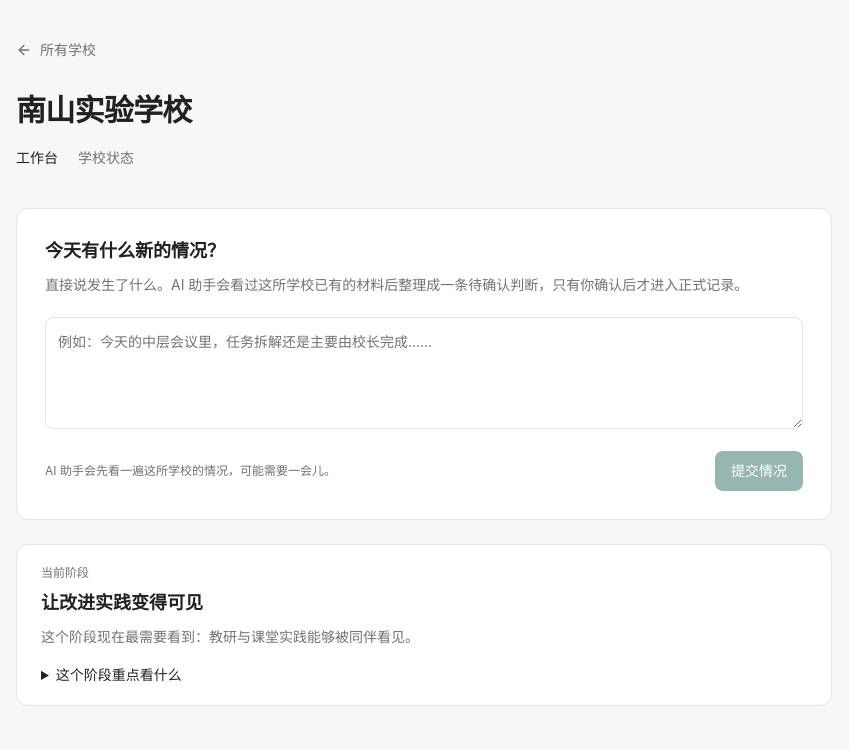
Test: the workbench when the assistant can run › sends the sentence to the assistant and shows the judgement it produced
Expected: the text "AI 助手会先看一遍这所学校的情况，可能需要一会儿。" is shown, x1=45 y1=463 x2=336 y2=479
Type "教研组把三节课的记录贴到了公共墙上。" into the text box with placeholder "例如：今天的中层会议里，任务拆解还是主要由校长完成……" at (424, 373), box x1=45 y1=317 x2=803 y2=429
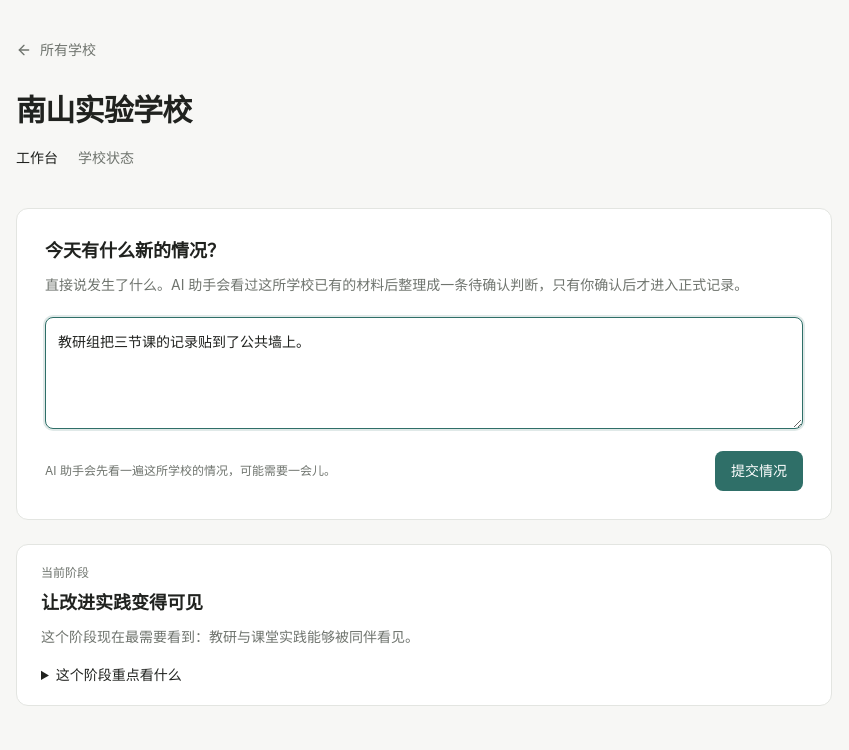
Click the button "提交情况" at (759, 471), box x1=715 y1=451 x2=803 y2=491
(page scrolled)
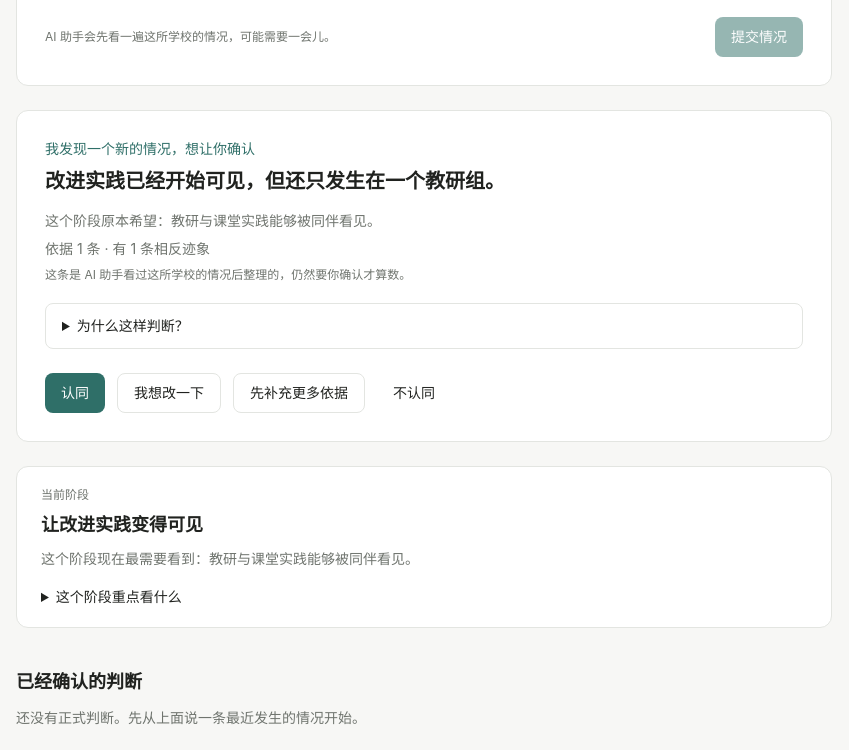
Expected: the heading "改进实践已经开始可见，但还只发生在一个教研组。" is shown, x1=45 y1=169 x2=505 y2=193
Expected: the text "依据 1 条 · 有 1 条相反迹象" is shown, x1=45 y1=240 x2=210 y2=257
Expected: the text "这条是 AI 助手看过这所学校的情况后整理的，仍然要你确认才算数。" is shown, x1=45 y1=267 x2=411 y2=282
